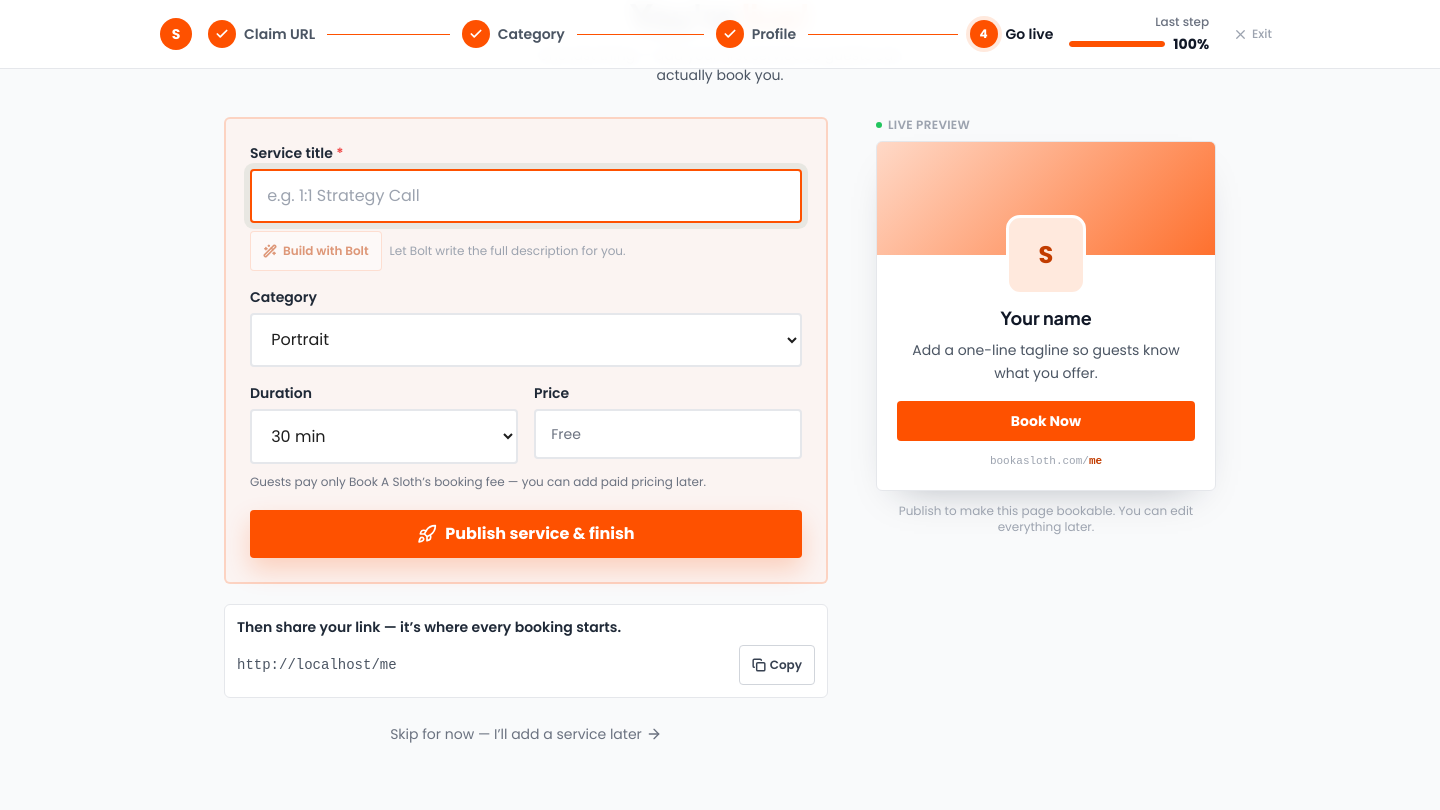
onboarding first-service publish › skip is soft-gated — the tap opens a confirm instead of leaving
(page scrolled)
Expected: the field with placeholder "e.g. 1:1 Strategy Call" is shown, [250,169,802,223]
Click the button "Skip for now — I’ll add a service later" at (526, 734), box [224,714,828,754]
(page scrolled)
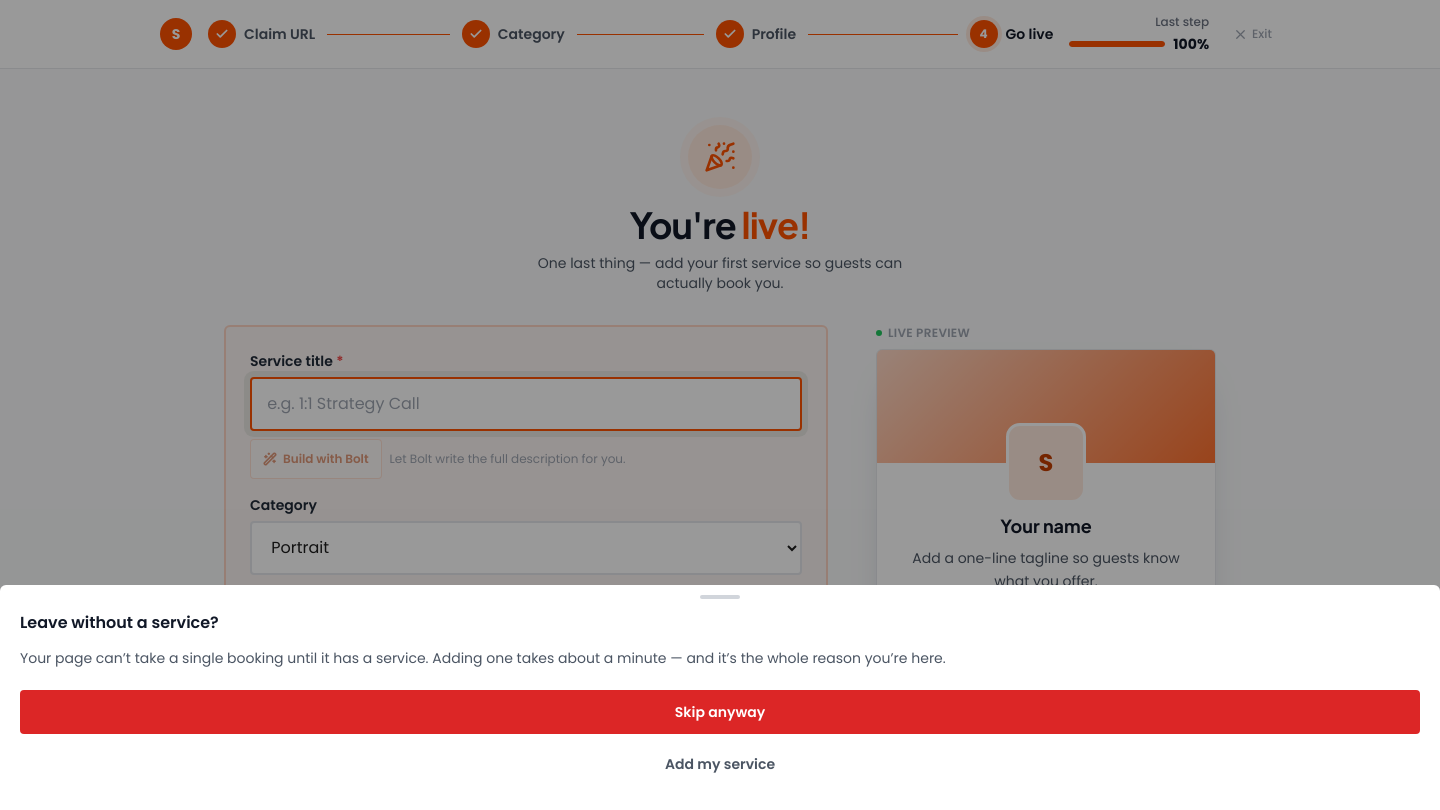
Now the text "Leave without a service?" is shown, box [20,611,219,634]
# "Add my service" backs out — still on the screen, nothing published.
Click the button "Add my service" at (720, 764), box [20,742,1420,786]
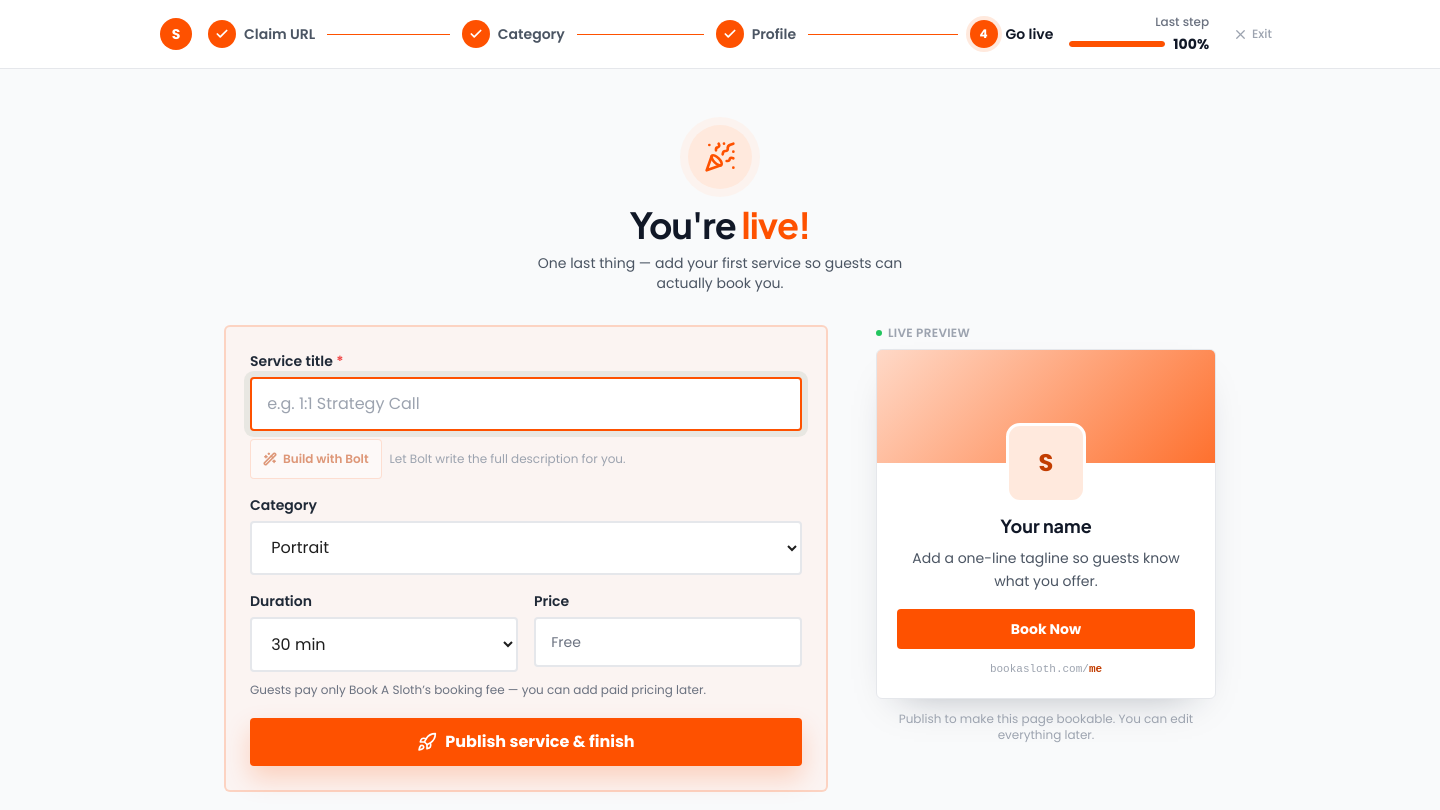
Now the text "Leave without a service?" is gone
